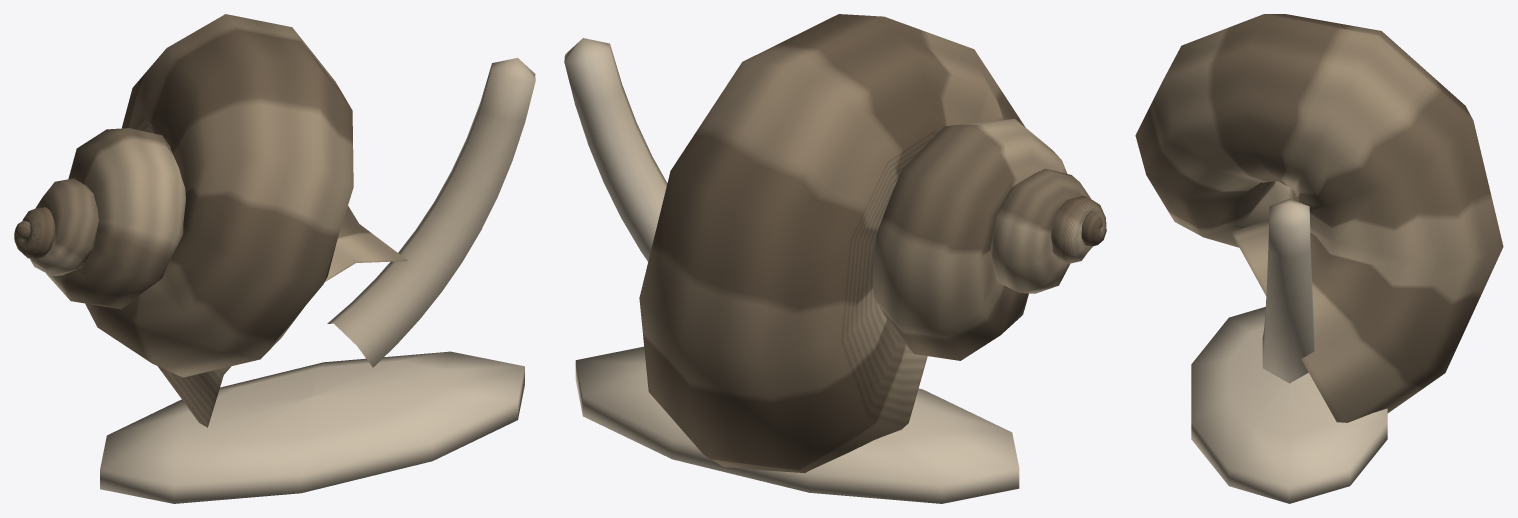
Rendered from nassarius.glb.
The picture shows the model from 3 angles, left to right: view 1: azimuth 30°, elevation 25°; view 2: azimuth 150°, elevation 25°; view 3: azimuth 270°, elevation 25°; orthographic projection. The views are drawn at different scales.
Parts seen in each view (by area): view 1: Shell, Foot, Siphon; view 2: Shell, Foot, Siphon; view 3: Shell, Foot, Siphon.
Part boxes in pixels (bbox=[...]): Shell: bbox=[14, 14, 408, 427]; Foot: bbox=[100, 351, 524, 503]; Siphon: bbox=[327, 58, 535, 367]; Shell: bbox=[639, 14, 1106, 473]; Foot: bbox=[575, 346, 1019, 503]; Siphon: bbox=[564, 38, 667, 261]; Shell: bbox=[1135, 14, 1503, 422]; Foot: bbox=[1191, 307, 1387, 503]; Siphon: bbox=[1262, 198, 1314, 383].
Bounding box in the file's own units: 1 × 0.792 × 0.6851.
Materials: 1 (1 with a texture image).
